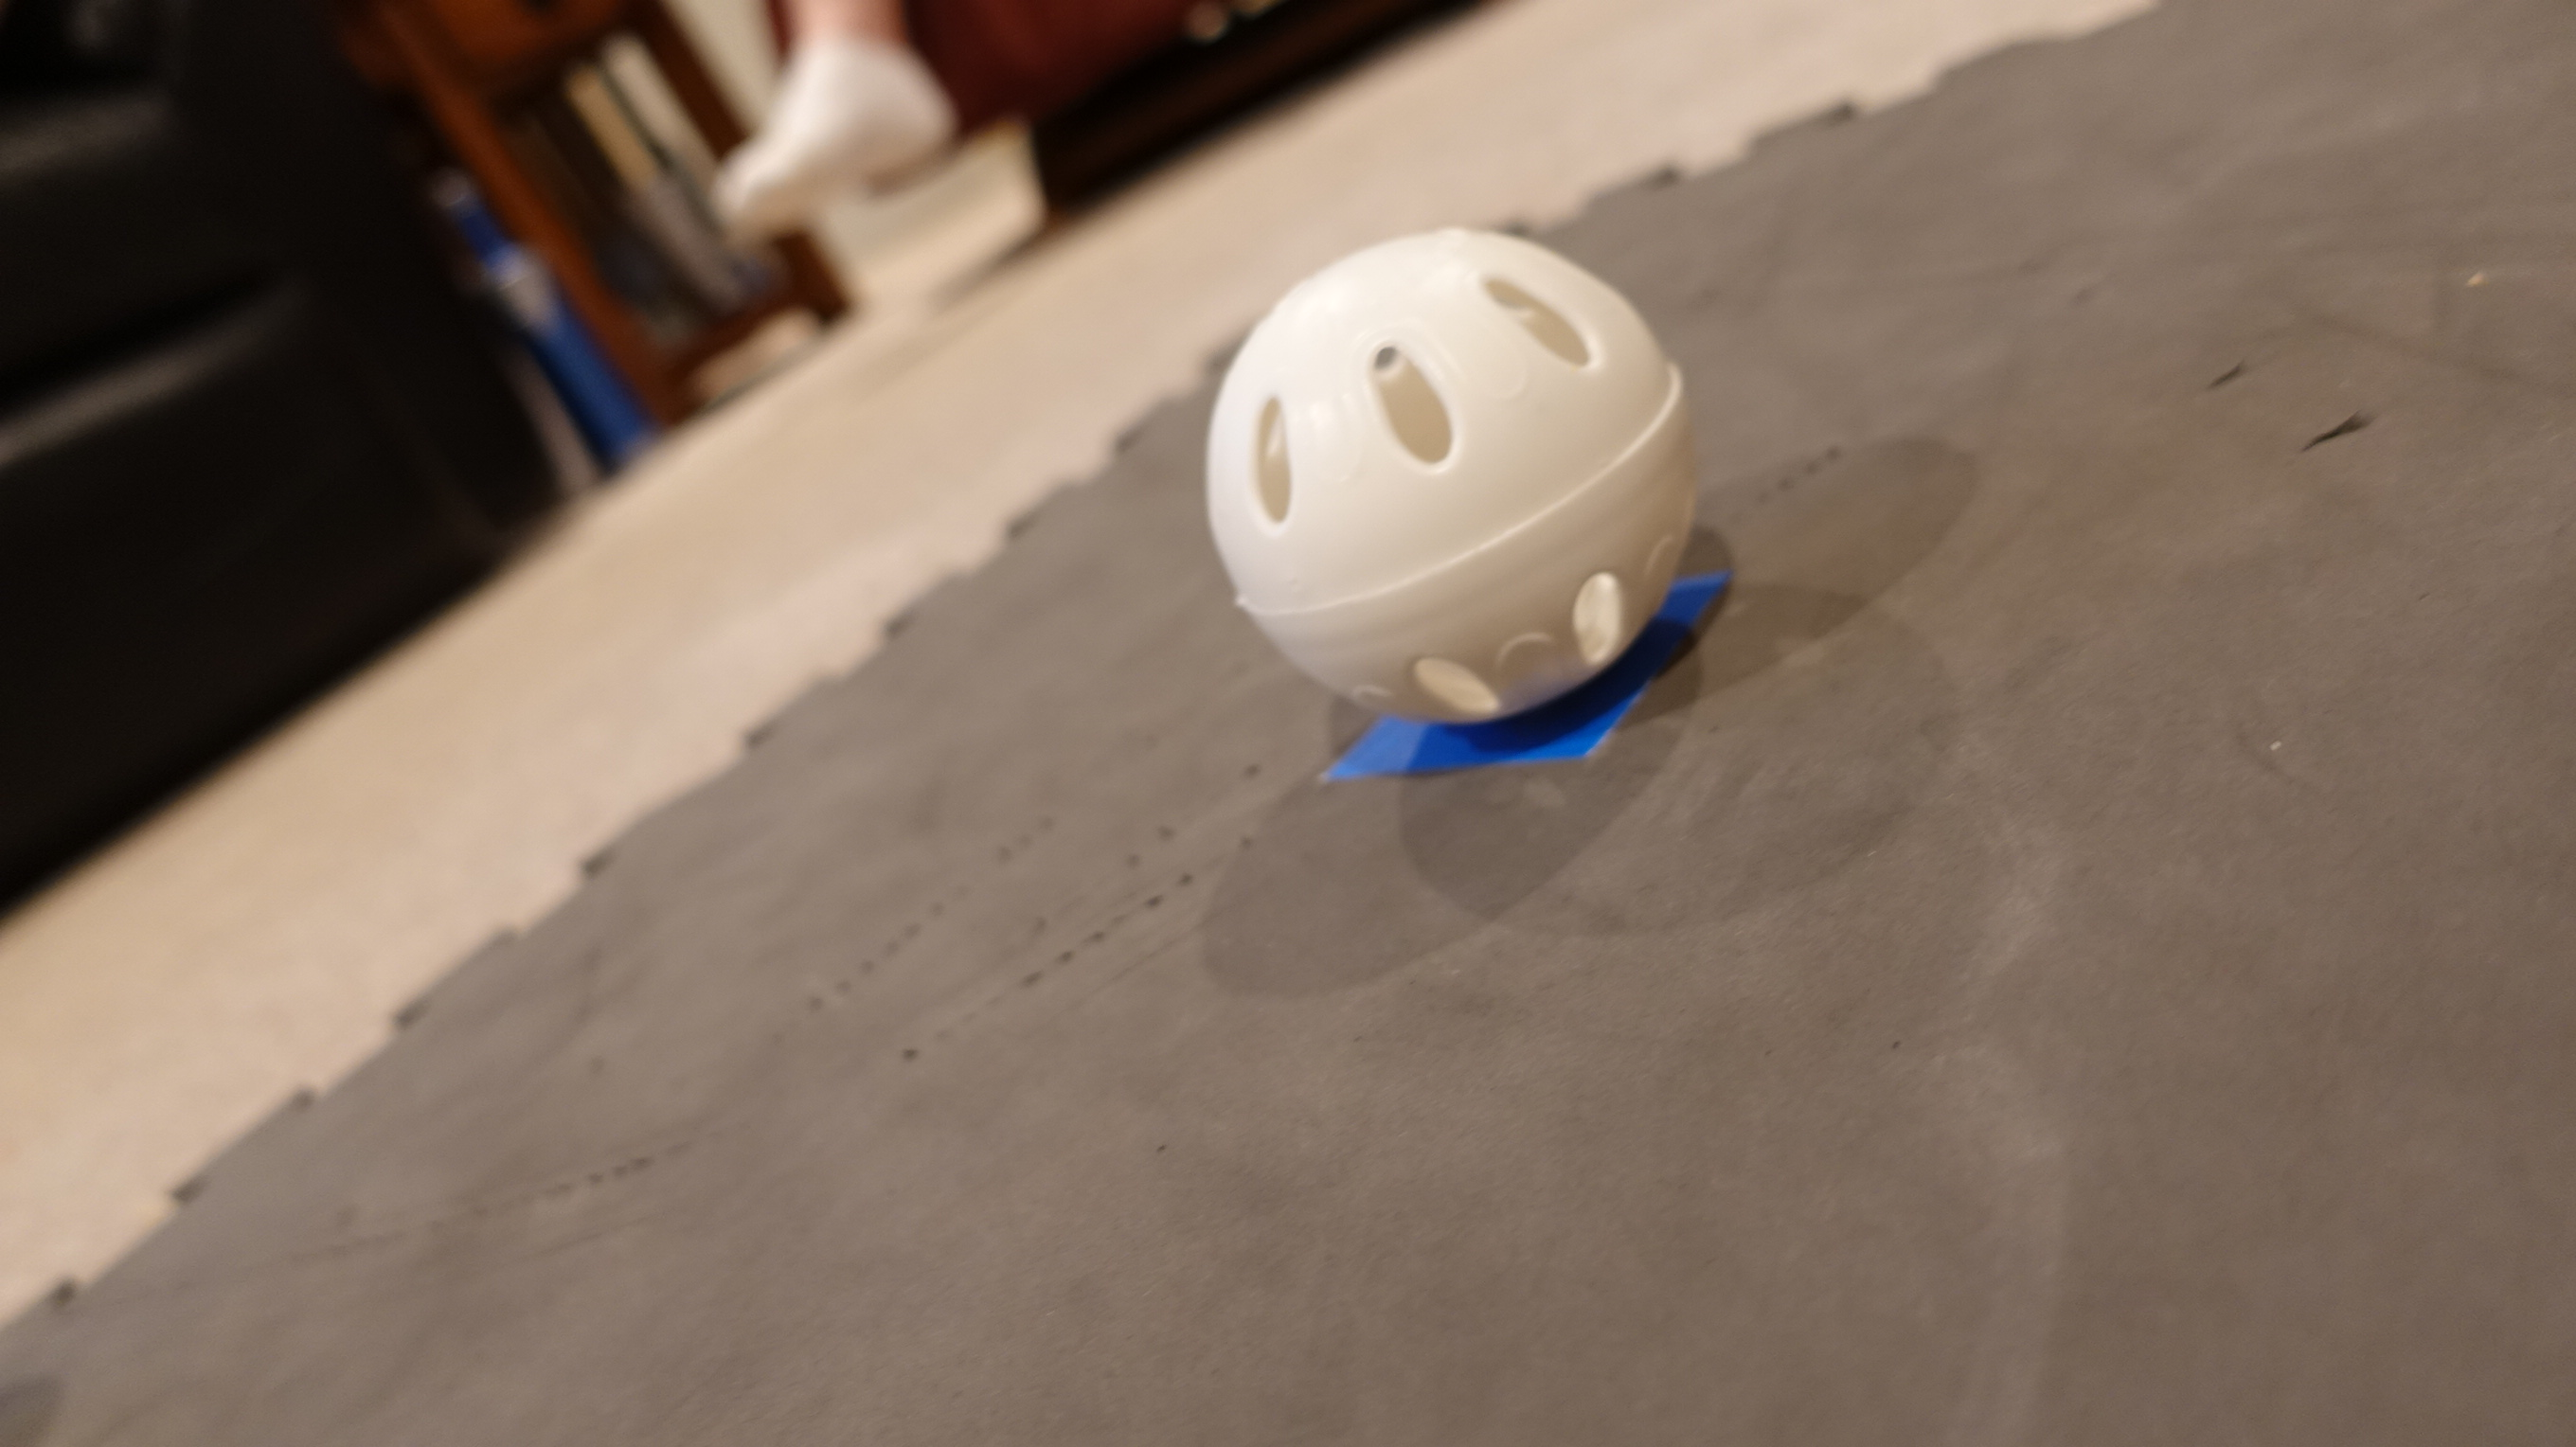silver: (1191, 223, 1697, 720)
